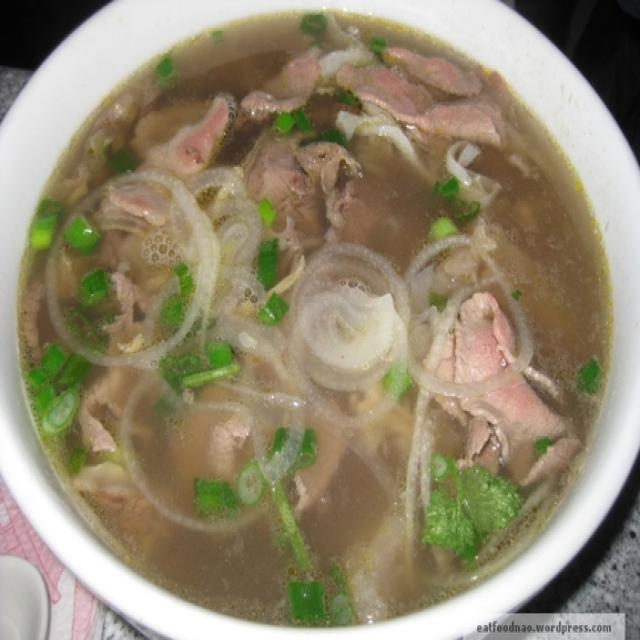面条主食: (21, 24, 626, 598)
